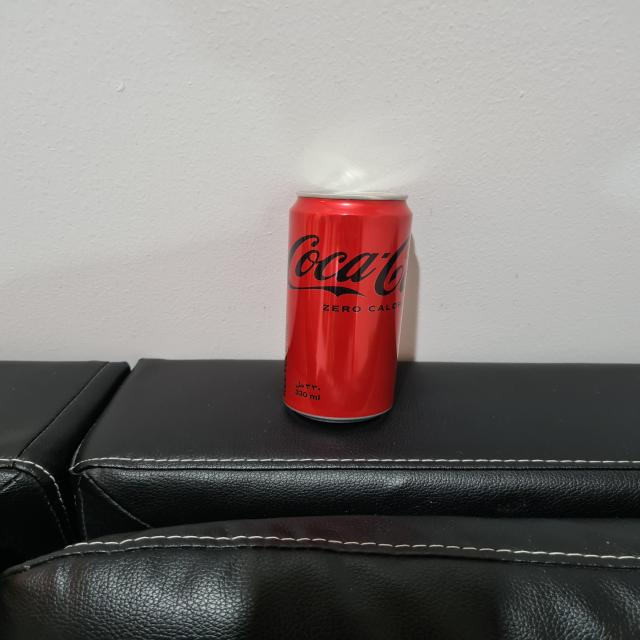non-organic waste: (272, 189, 414, 426)
